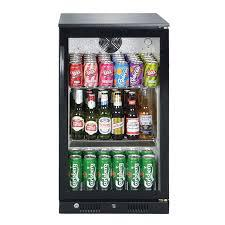beer: (70, 89, 155, 139), (70, 149, 157, 189)
